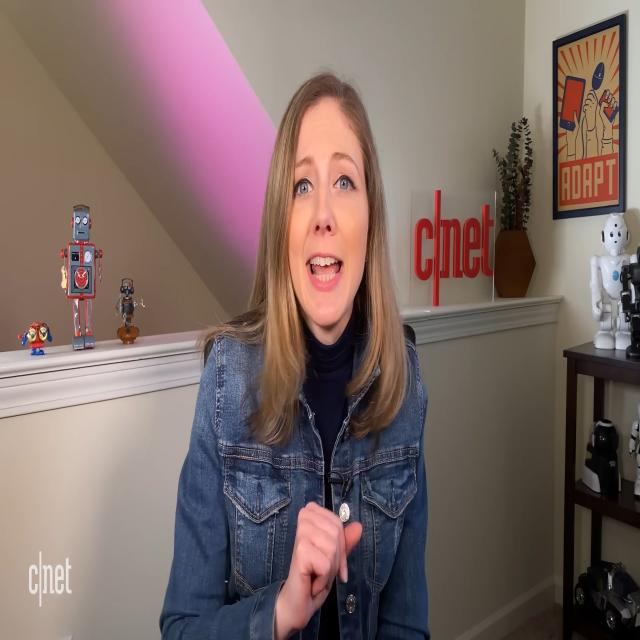dress: (156, 301, 437, 640)
